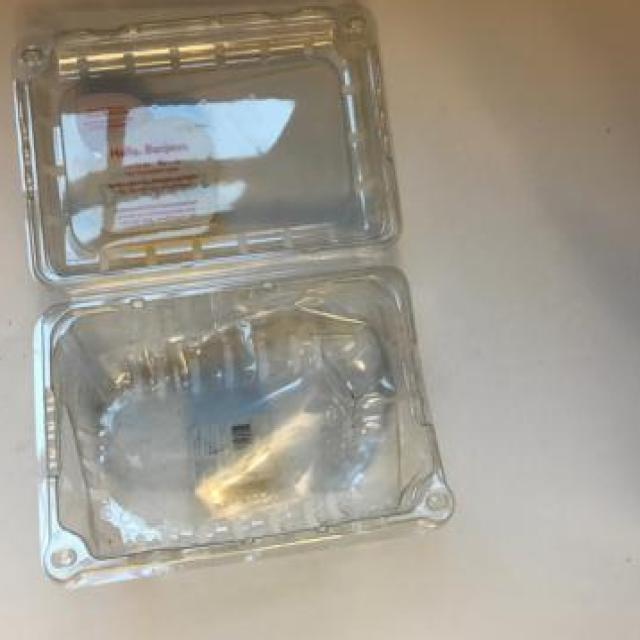organic: (14, 5, 486, 594)
